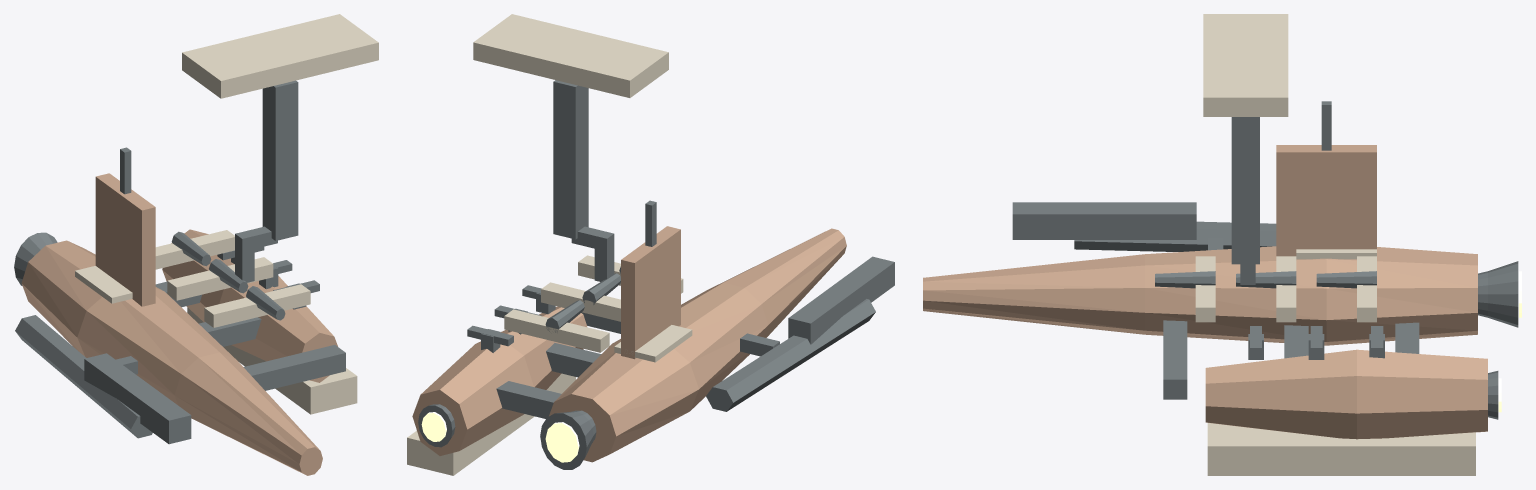
The picture shows the model from 3 angles, left to right: view 1: azimuth 30°, elevation 25°; view 2: azimuth 150°, elevation 25°; view 3: azimuth 270°, elevation 25°; orthographic projection. The views are drawn at different scales.
Size of the model in its own units: 10.89 by 12.1 by 16.9.
